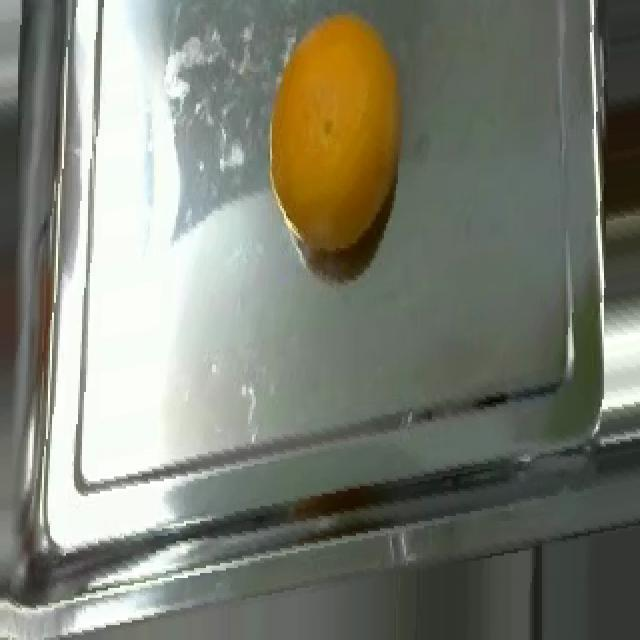Fruit: (258, 5, 410, 258)
